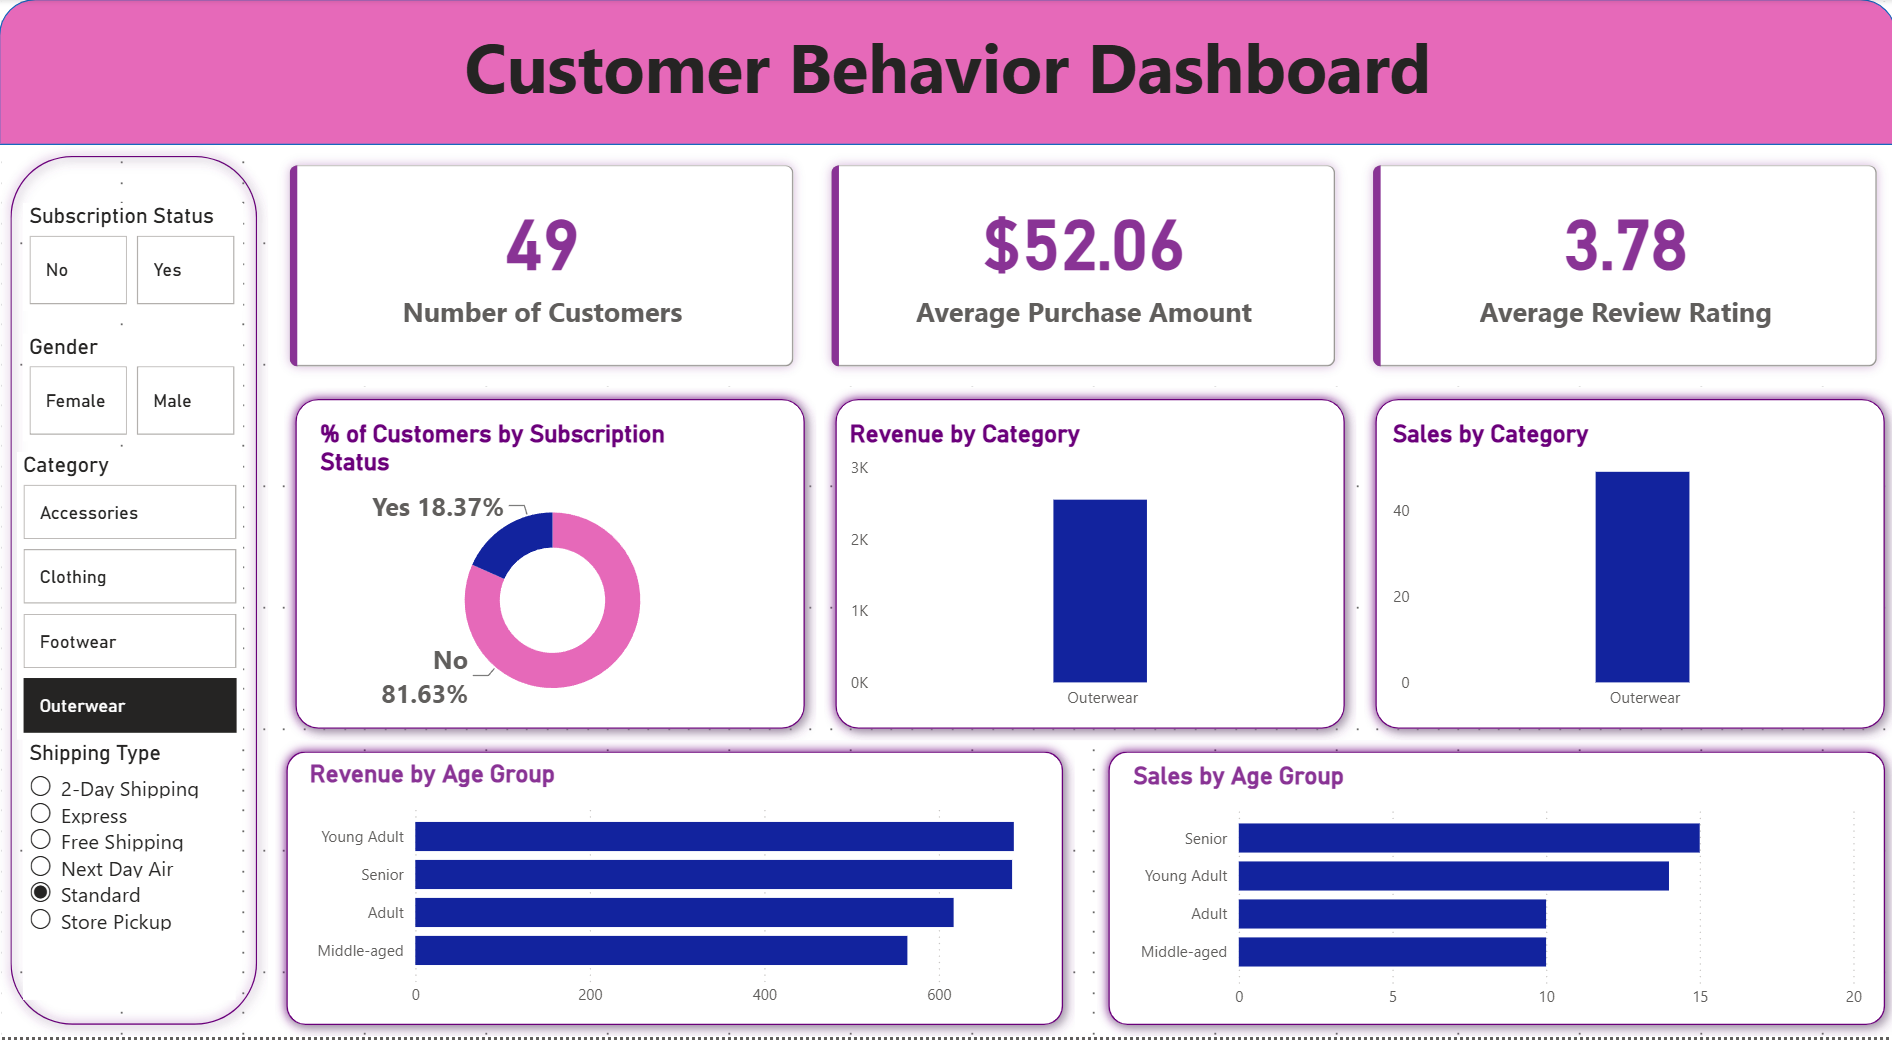

What the dashboard file says about the page in this screenshot:
{"tool":"powerbi","page":{"name":"Page 1","canvas":[1500,820],"ordinal":0},"visuals":[{"type":"cardVisual","fields":{"Data":["public customer.Number of Customers","public customer.Average Purchase Amount","public customer.Average Review Rating"]},"box":[212.9,115.3,1286.5,191.6],"z":0},{"type":"shape","box":[0,0,1499.4,115.3],"z":1000},{"type":"textbox","box":[0,12.4,1499.4,102.9],"z":2000},{"type":"shape","box":[218.3,585.6,631.7,234.2],"z":2500,"group":"g1"},{"type":"shape","box":[225.4,307,420.5,278.6],"z":3000},{"type":"donutChart","title":"% of Customers by Subscription Status","fields":{"Category":["public customer.subscription_status"],"Y":["CountNonNull(public customer.customer_id)"]},"box":[248.4,331.8,376.2,237.8],"z":4000},{"type":"shape","box":[1078.9,307,420.5,278.6],"z":5000},{"type":"shape","box":[652.1,307,420.5,278.6],"z":6000},{"type":"clusteredColumnChart","title":"Revenue by Category","fields":{"Category":["public customer.category"],"Y":["Sum(public customer.purchase_amount)"]},"box":[667.2,331.8,385.1,237.8],"z":7000},{"type":"clusteredColumnChart","title":"Sales by Category","fields":{"Category":["public customer.category"],"Y":["CountNonNull(public customer.customer_id)"]},"box":[1096.6,331.8,385.1,237.8],"z":8000},{"type":"shape","box":[0,115.3,212.9,704.5],"z":9000},{"type":"advancedSlicerVisual","fields":{"Values":["public customer.subscription_status"]},"box":[19.5,161.5,173.9,85.2],"z":10000},{"type":"advancedSlicerVisual","fields":{"Values":["public customer.gender"]},"box":[19.5,264.4,173.9,85.2],"z":11000},{"type":"advancedSlicerVisual","fields":{"Values":["public customer.category"]},"box":[14.2,357.9,179,227.6],"z":12000},{"type":"listSlicer","fields":{"Values":["public customer.shipping_type"]},"box":[19,585.5,168.3,205],"z":13000},{"type":"shape","box":[867.7,585.6,631.7,234.2],"z":14000},{"type":"clusteredBarChart","title":"Sales by Age Group","fields":{"Category":["public customer.age_group"],"Y":["CountNonNull(public customer.customer_id)"]},"box":[890.8,601.5,585.6,204.1],"z":15000},{"type":"group","id":"g1","title":"Group 1","box":[218.3,585.6,631.7,234.2],"z":16000},{"type":"clusteredBarChart","title":"Revenue by Age Group","fields":{"Category":["public customer.age_group"],"Y":["Sum(public customer.purchase_amount)"]},"box":[241.4,601.6,585.6,204.1],"z":17500,"group":"g1"}]}

Visuals, with their boxes in screenshot pixels (x1, y1, x2, y2), scaled from the page's 1500x820 canvas onto the 1892x1045 screenshot:
cardVisual - public customer.Number of Customers x public customer.Average Purchase Amount: x1=269, y1=147, x2=1891, y2=391
shape: x1=0, y1=0, x2=1891, y2=147
textbox: x1=0, y1=16, x2=1891, y2=147
shape: x1=275, y1=746, x2=1072, y2=1044
shape: x1=284, y1=391, x2=815, y2=746
"% of Customers by Subscription Status" donutChart: x1=313, y1=423, x2=788, y2=726
shape: x1=1361, y1=391, x2=1891, y2=746
shape: x1=823, y1=391, x2=1353, y2=746
"Revenue by Category" clusteredColumnChart: x1=842, y1=423, x2=1327, y2=726
"Sales by Category" clusteredColumnChart: x1=1383, y1=423, x2=1869, y2=726
shape: x1=0, y1=147, x2=269, y2=1044
advancedSlicerVisual - public customer.subscription_status: x1=25, y1=206, x2=244, y2=314
advancedSlicerVisual - public customer.gender: x1=25, y1=337, x2=244, y2=446
advancedSlicerVisual - public customer.category: x1=18, y1=456, x2=244, y2=746
listSlicer - public customer.shipping_type: x1=24, y1=746, x2=236, y2=1007
shape: x1=1094, y1=746, x2=1891, y2=1044
"Sales by Age Group" clusteredBarChart: x1=1124, y1=767, x2=1862, y2=1027
"Group 1" group: x1=275, y1=746, x2=1072, y2=1044
"Revenue by Age Group" clusteredBarChart: x1=304, y1=767, x2=1043, y2=1027
